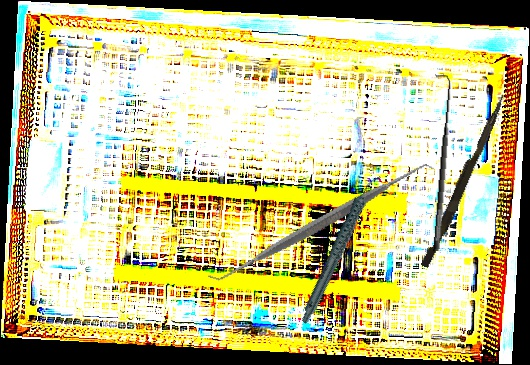Handpiece: (273, 172, 408, 325)
Hook Surgical: (419, 74, 457, 252)
Pusher: (420, 90, 507, 271)
Spatula Surgical: (207, 105, 435, 340)
